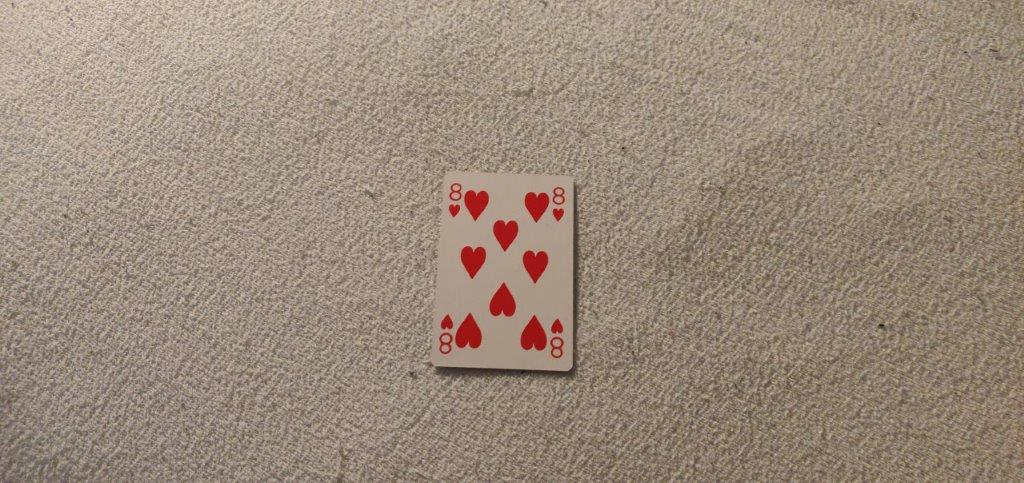8H: (549, 185, 569, 225), (445, 182, 466, 218)
